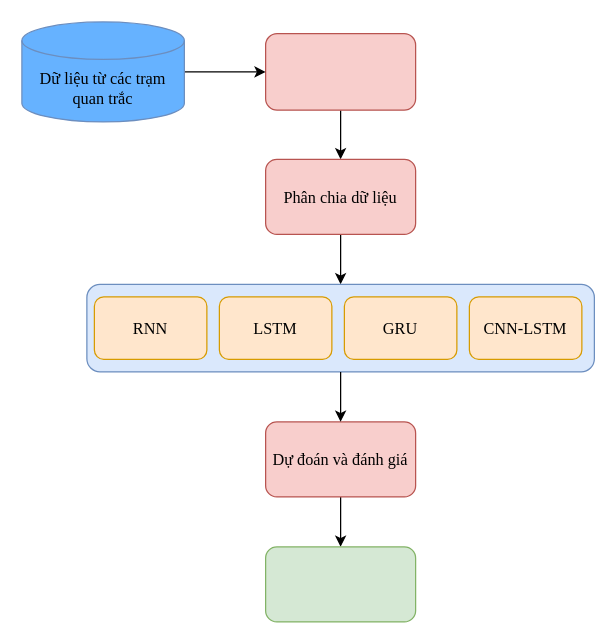
Some shapes in this 616 by 644 pixel diagram are drawn without their labels. The centre of each missing label's shape, as x and y in pixels:
"Kết quả tốt nhất của các mô hình" goes at point 340,584.
"Tiền xử lý dữ liệu" goes at point 340,71.
